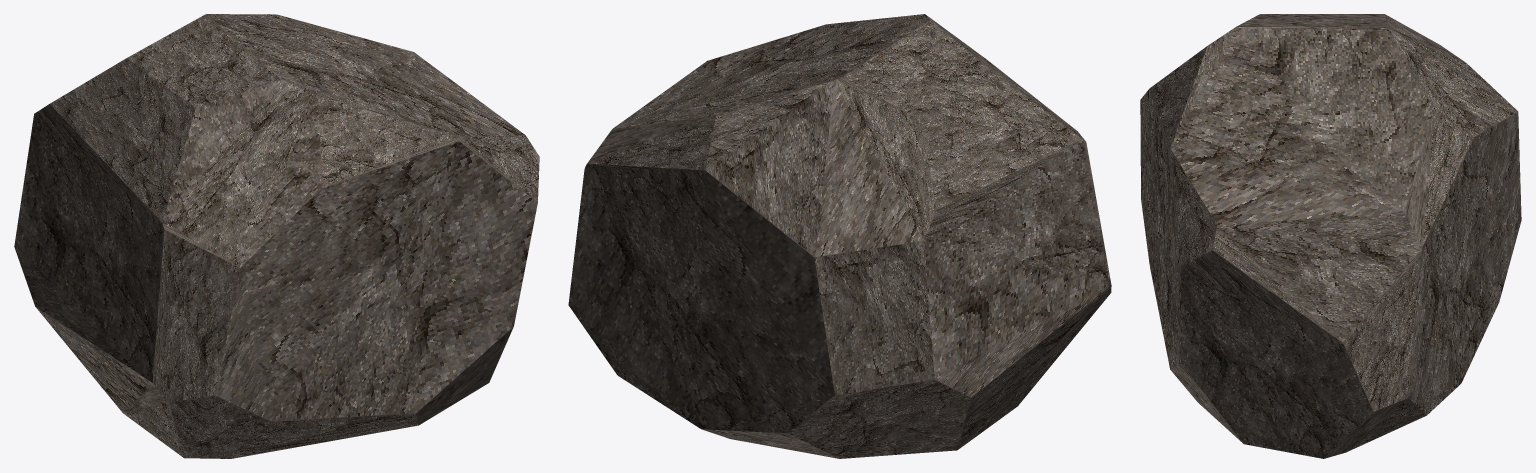
File: rock.glb
The picture shows the model from 3 angles, left to right: view 1: azimuth 30°, elevation 25°; view 2: azimuth 150°, elevation 25°; view 3: azimuth 270°, elevation 25°; orthographic projection. The views are drawn at different scales.
Parts seen in each view (by area): view 1: Sphere; view 2: Sphere; view 3: Sphere.
Part boxes in pixels (left/top/right/bottom): Sphere: left=14, top=14, right=539, bottom=458; Sphere: left=568, top=14, right=1111, bottom=458; Sphere: left=1140, top=14, right=1521, bottom=458.
Bounding box in the file's own units: 2.07 × 1.63 × 1.72.
Materials: 1 (1 with a texture image).
